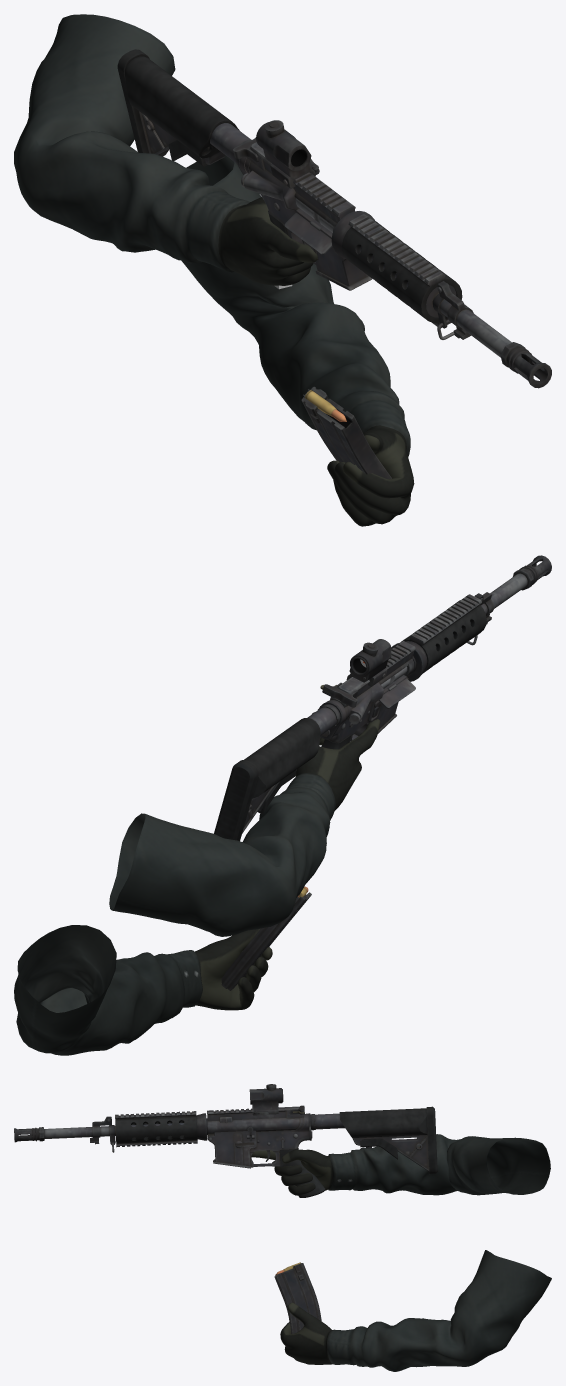
The model's file is gun_000075.obj.
The picture shows the model from 3 angles, top to bottom: view 1: azimuth 30°, elevation 25°; view 2: azimuth 150°, elevation 25°; view 3: azimuth 270°, elevation 25°; orthographic projection. The views are drawn at different scales.
Visible parts, largest first — view 1: armmesh_arms_0, base_carbine_0, clip_carbine_0, scope_carbine_0, lid_carbine_0; view 2: armmesh_arms_0, base_carbine_0, clip_carbine_0, scope_carbine_0; view 3: armmesh_arms_0, base_carbine_0, clip_carbine_0, scope_carbine_0.
Part boxes in pixels (x1,y1,x2,y2): armmesh_arms_0: [14, 14, 414, 526]; base_carbine_0: [117, 49, 551, 388]; clip_carbine_0: [301, 386, 391, 478]; scope_carbine_0: [256, 120, 319, 188]; lid_carbine_0: [284, 212, 332, 254]; armmesh_arms_0: [14, 719, 380, 1055]; base_carbine_0: [214, 555, 551, 841]; clip_carbine_0: [221, 892, 311, 990]; scope_carbine_0: [346, 639, 391, 686]; armmesh_arms_0: [251, 1134, 551, 1371]; base_carbine_0: [14, 1106, 437, 1197]; clip_carbine_0: [274, 1263, 321, 1333]; scope_carbine_0: [249, 1084, 283, 1115].
Size of the model in its own units: 47.84 by 64.87 by 129.
